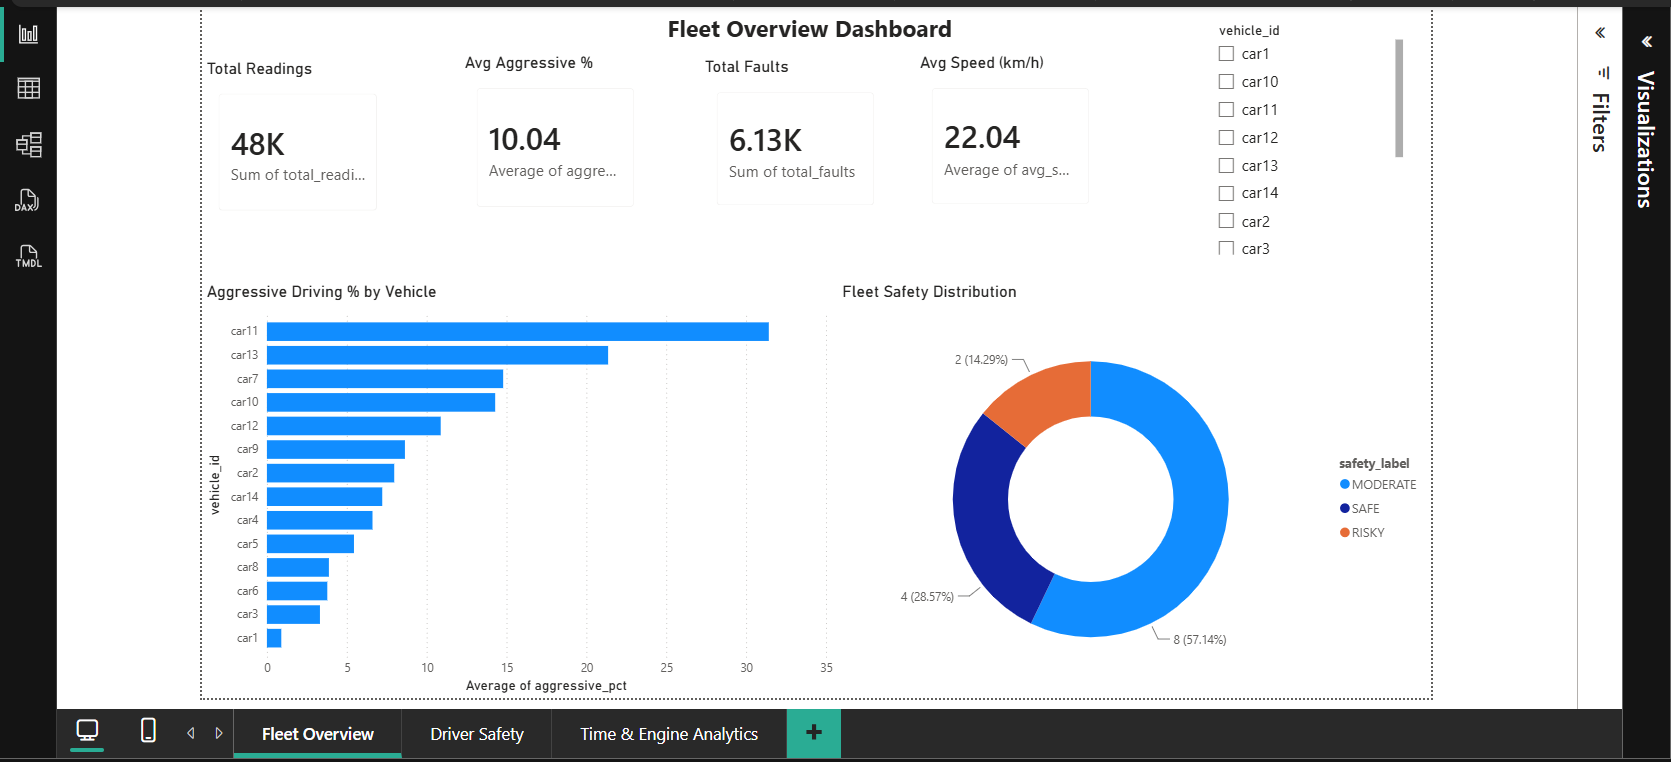

What the dashboard file says about the page in this screenshot:
{"tool":"powerbi","page":{"name":"Fleet Overview","canvas":[1280,720],"ordinal":0},"visuals":[{"type":"cardVisual","title":"Total Readings","fields":{"Data":["Sum(obd_driver_db driver_safety_summary.total_readings)"]},"box":[0,53.5,199.5,176.3],"z":0},{"type":"cardVisual","title":"Avg Aggressive %","fields":{"Data":["Avg(obd_driver_db driver_safety_summary.aggressive_pct)"]},"box":[268.8,47.7,198,177.8],"z":1000},{"type":"cardVisual","title":"Total Faults","fields":{"Data":["Sum(obd_driver_db driver_safety_summary.total_faults)"]},"box":[518.9,52,198,172],"z":2000},{"type":"cardVisual","title":"Avg Speed (km/h)","fields":{"Data":["Avg(obd_driver_db driver_safety_summary.avg_speed)"]},"box":[742.9,47.7,198,174.9],"z":3000},{"type":"clusteredBarChart","title":"Aggressive Driving % by Vehicle","fields":{"Category":["obd_driver_db driver_safety_summary.vehicle_id"],"Y":["Avg(obd_driver_db driver_safety_summary.aggressive_pct)"]},"box":[0,286.2,662,433.6],"z":4000},{"type":"donutChart","title":"Fleet Safety Distribution","fields":{"Category":["obd_driver_db driver_safety_summary.safety_label"],"Y":["CountNonNull(obd_driver_db driver_safety_summary.vehicle_id)"]},"box":[662,286.2,618.6,433.6],"z":5000},{"type":"slicer","fields":{"Values":["obd_driver_db driver_safety_summary.vehicle_id"]},"box":[1046.4,10.1,209.6,252.9],"z":6000},{"type":"textbox","box":[479.8,0,320.9,41.9],"z":7000}]}

Visuals, with their boxes on the page's 1280x720 design canvas (x1, y1, x2, y2). These are canvas units, not pixel positions in the 1671x762 screenshot, which may show the page scaled, cropped or inside an application window:
"Total Readings" cardVisual: box(0, 54, 200, 230)
"Avg Aggressive %" cardVisual: box(269, 48, 467, 226)
"Total Faults" cardVisual: box(519, 52, 717, 224)
"Avg Speed (km/h)" cardVisual: box(743, 48, 941, 223)
"Aggressive Driving % by Vehicle" clusteredBarChart: box(0, 286, 662, 720)
"Fleet Safety Distribution" donutChart: box(662, 286, 1281, 720)
slicer - obd_driver_db driver_safety_summary.vehicle_id: box(1046, 10, 1256, 263)
textbox: box(480, 0, 801, 42)
